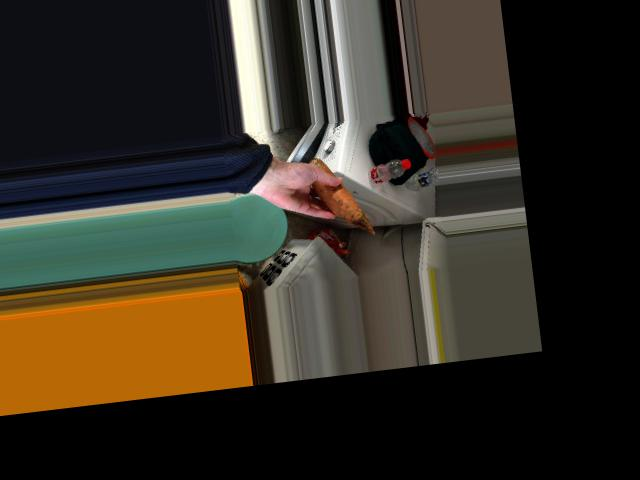sweet_potato: (300, 157, 351, 214)
